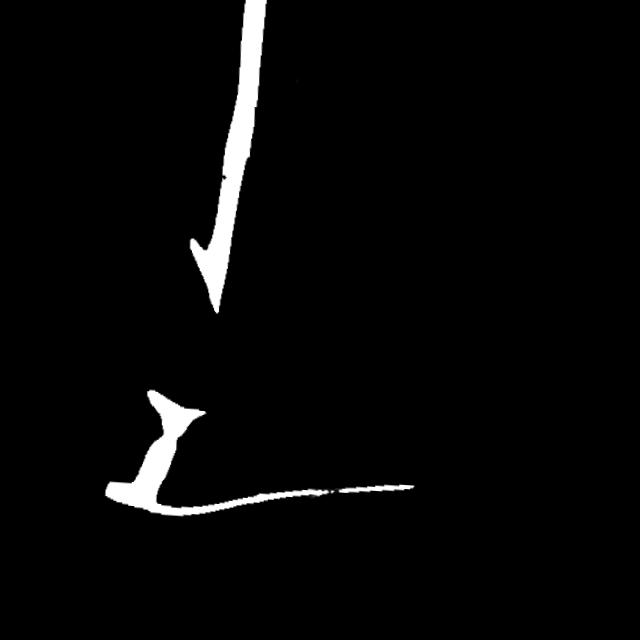inf: (313, 475, 349, 508)
